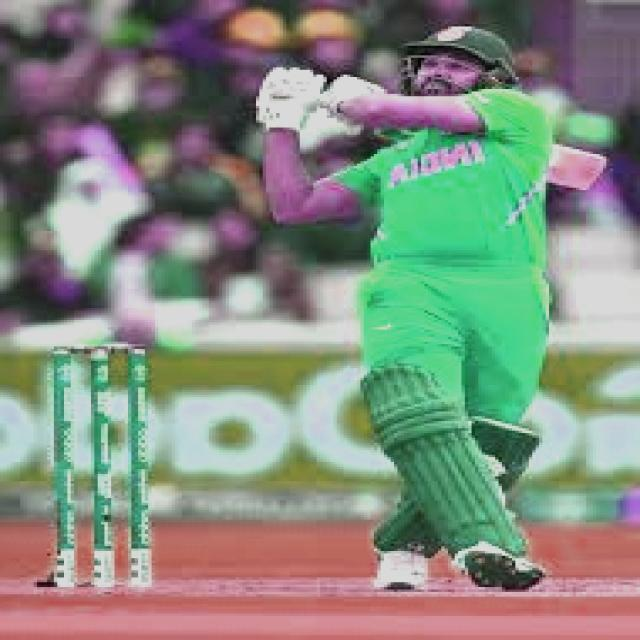toe: (564, 151, 610, 194)
